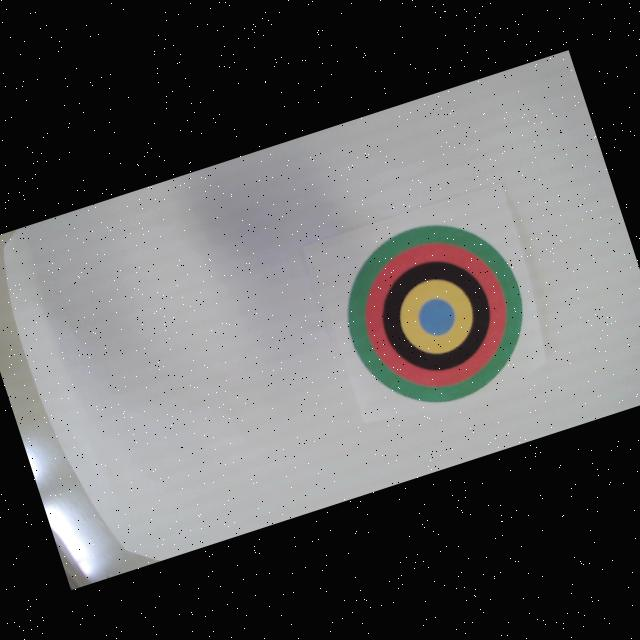COGNITIVE: (323, 201, 546, 426)
